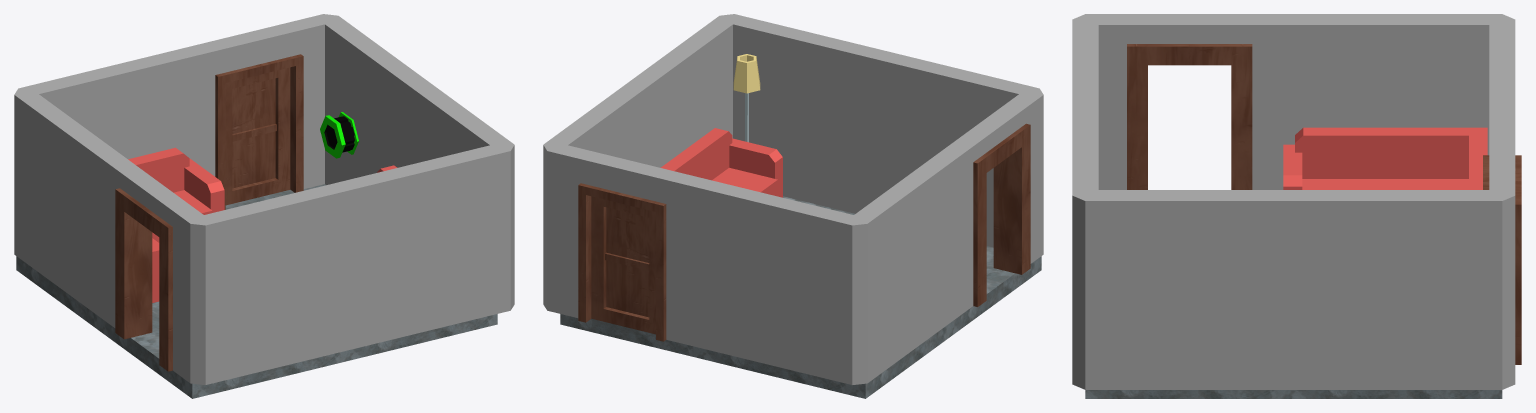
The model's file is Level_1_1-Locked.fbx.
3 views of the same model, side by side, from view 1: azimuth 30°, elevation 25°; view 2: azimuth 150°, elevation 25°; view 3: azimuth 270°, elevation 25° (orthographic). The views are drawn at different scales.
Visible parts, largest first — view 1: mergedBlocks; view 2: mergedBlocks; view 3: mergedBlocks.
Part boxes in pixels (box(x1,y1,x2,y2)): mergedBlocks: box(14, 14, 514, 398); mergedBlocks: box(543, 14, 1043, 398); mergedBlocks: box(1072, 14, 1521, 398).
Size of the model in its own units: 43.1 by 22 by 43.1.
Materials: 9 (3 with a texture image).
